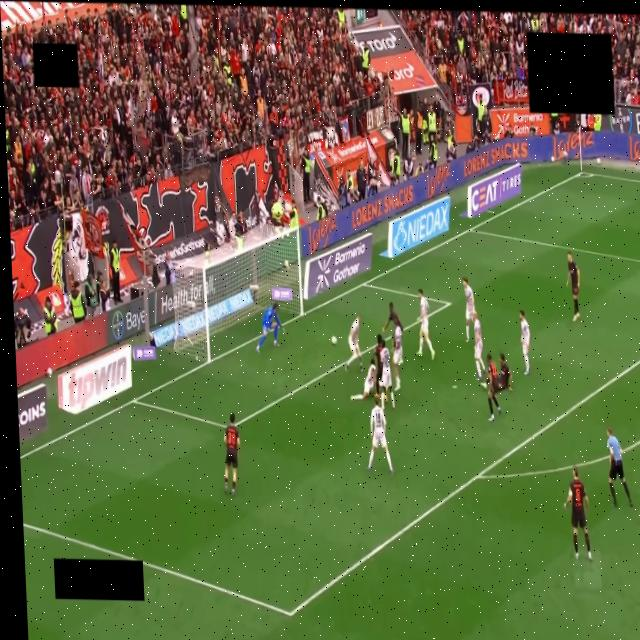ball: (331, 336, 337, 345)
player: (564, 467, 591, 561), (367, 394, 394, 473), (224, 413, 240, 496), (256, 303, 283, 352), (416, 289, 434, 359), (484, 354, 502, 421), (351, 359, 376, 400), (566, 251, 580, 321), (380, 340, 394, 409), (346, 315, 362, 372), (473, 312, 485, 380), (463, 277, 474, 343), (519, 310, 530, 375), (382, 302, 403, 333), (393, 326, 403, 391), (382, 302, 402, 332), (374, 335, 383, 393), (499, 354, 512, 391)
referee: (607, 428, 632, 507)
